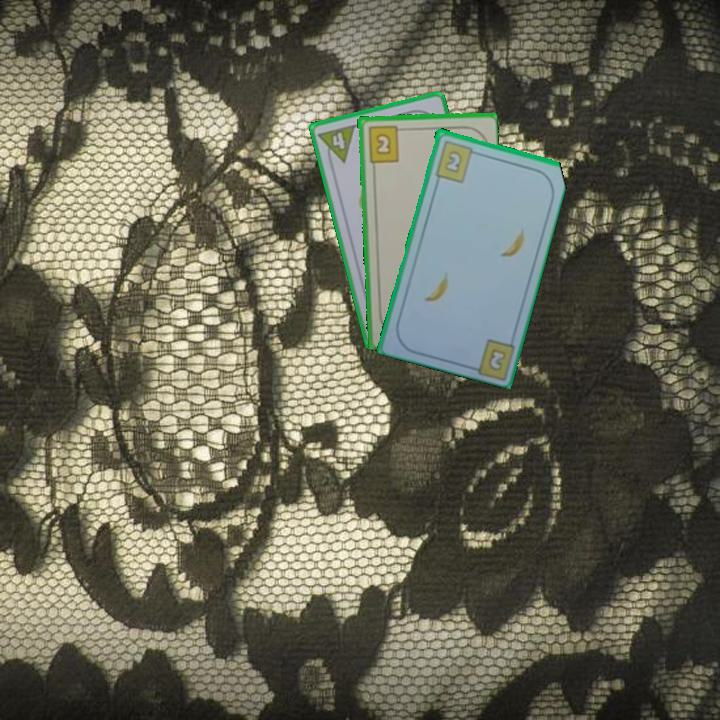2b: (431, 137, 481, 185), (364, 122, 406, 165), (485, 345, 509, 374)
4p: (315, 121, 358, 168)
